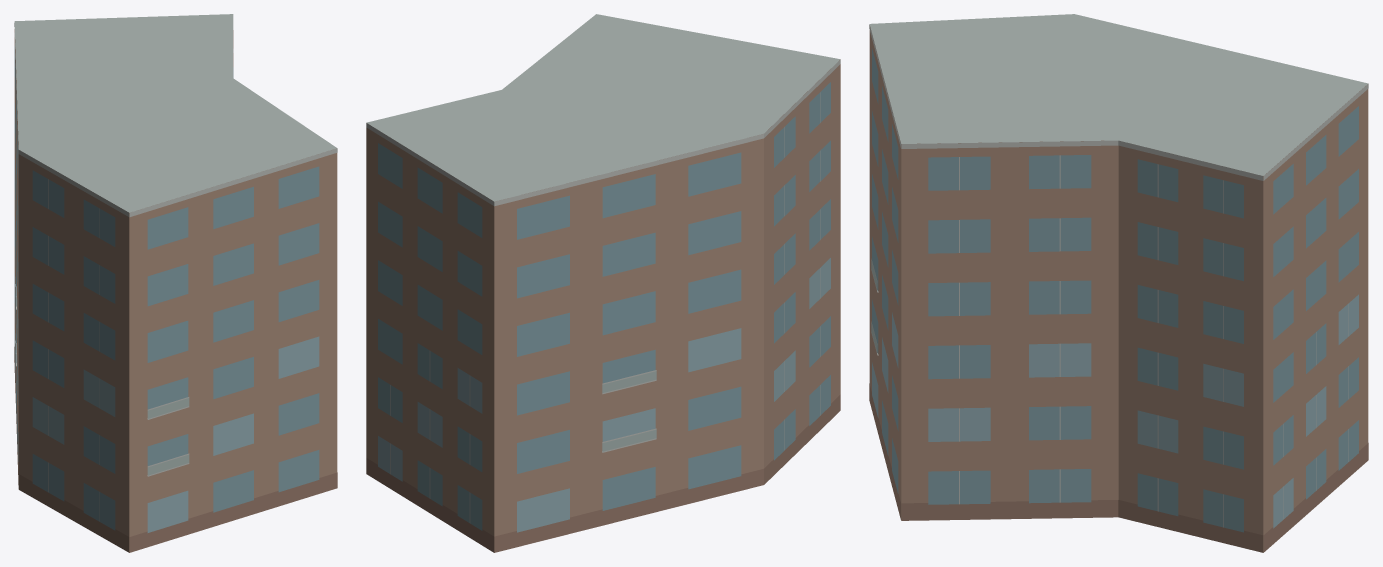
Rendered from survey-upis-32719193.glb.
3 views of the same model, side by side, from view 1: azimuth 30°, elevation 25°; view 2: azimuth 150°, elevation 25°; view 3: azimuth 270°, elevation 25° (orthographic). The views are drawn at different scales.
Parts seen in each view (by area): view 1: survey-upis-32719193.tmp; view 2: survey-upis-32719193.tmp; view 3: survey-upis-32719193.tmp.
Part boxes in pixels (x1,y1,x2,y2): survey-upis-32719193.tmp: [14, 14, 337, 552]; survey-upis-32719193.tmp: [366, 14, 840, 552]; survey-upis-32719193.tmp: [869, 14, 1368, 552].
Size of the model in its own units: 16.89 by 18.3 by 21.97.
